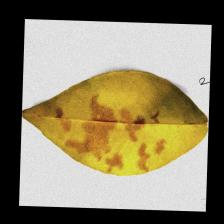black spot: (37, 81, 166, 169)
